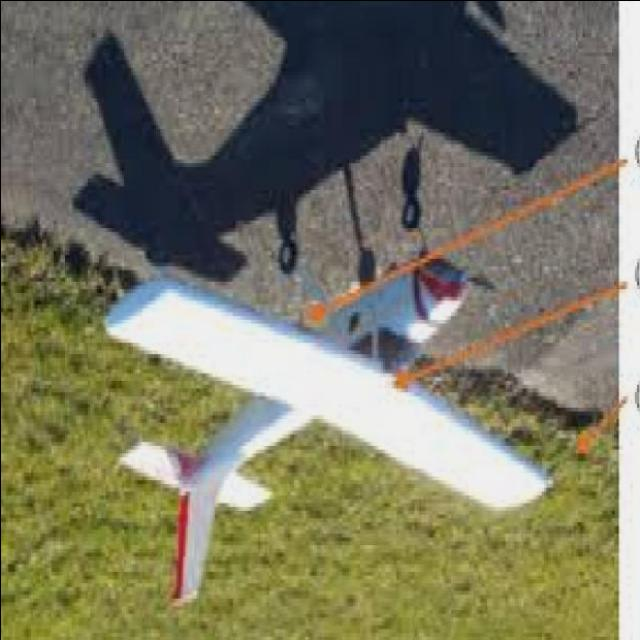plane: (100, 248, 553, 607)
